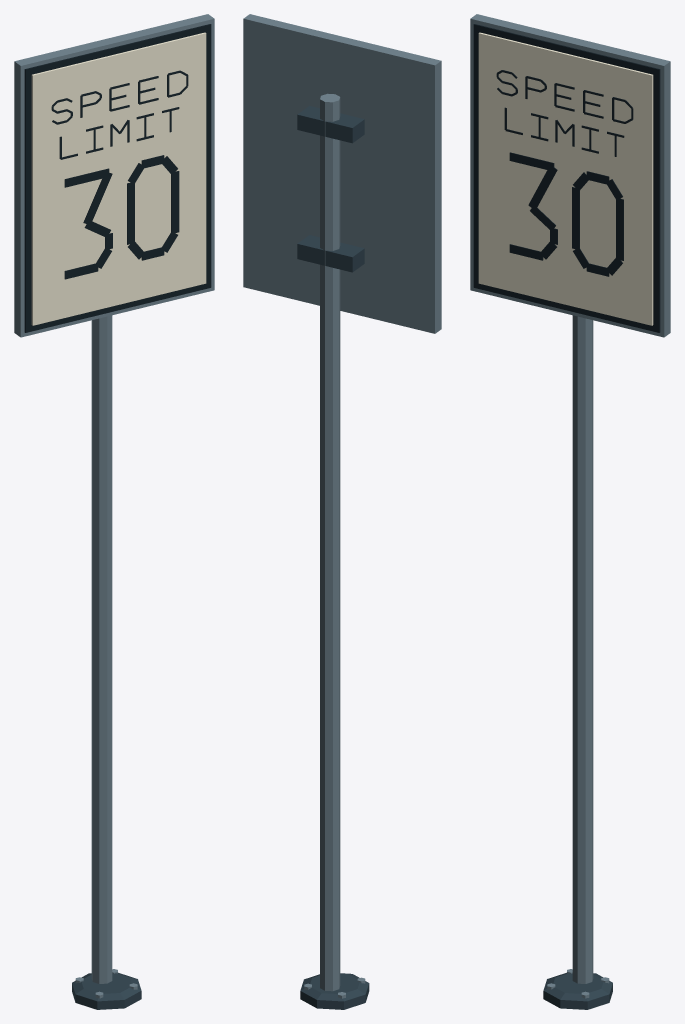
File: sign_speed_30.glb
3 views of the same model, side by side, from view 1: azimuth 30°, elevation 25°; view 2: azimuth 150°, elevation 25°; view 3: azimuth 330°, elevation 25° (orthographic).
Parts seen in each view (by area): view 1: sign_speed_30; view 2: sign_speed_30; view 3: sign_speed_30.
Boxes of the visible parts, <box> form: sign_speed_30: <box>14,14,214,1009</box>; sign_speed_30: <box>243,14,441,1009</box>; sign_speed_30: <box>470,14,670,1009</box>.
Size of the model in its own units: 0.59 by 2.8 by 0.19.
